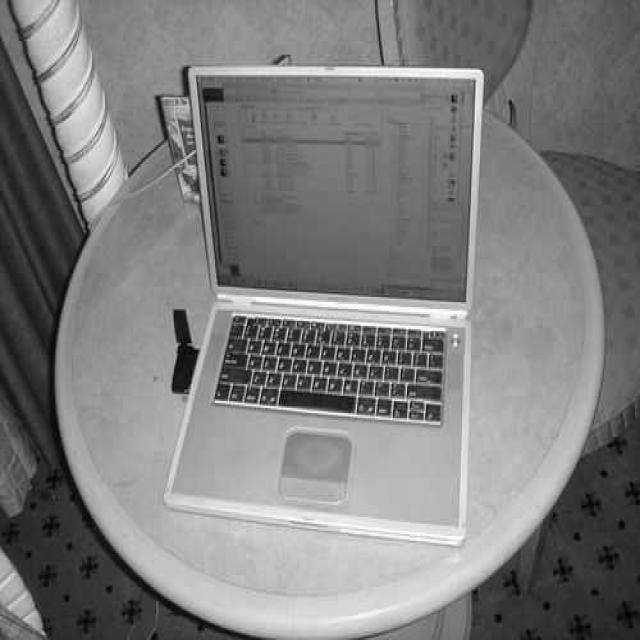laptop: (160, 59, 494, 603)
